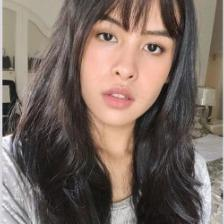Non hijab: (4, 0, 205, 224)
